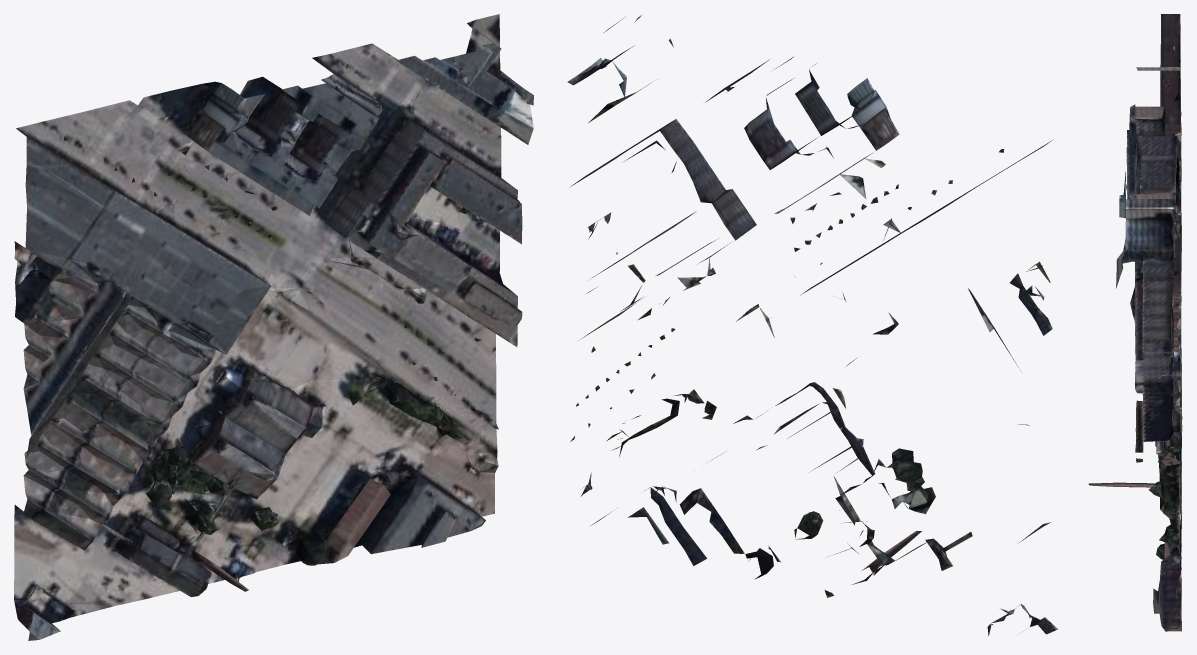
The model's file is Tile_+035_+031_L16_000.glb.
3 views of the same model, side by side, from view 1: azimuth 30°, elevation 25°; view 2: azimuth 150°, elevation 25°; view 3: azimuth 270°, elevation 25° (orthographic). The views are drawn at different scales.
Bounding box in the file's own units: 250 × 250 × 50.23.
Materials: 1 (1 with a texture image).
